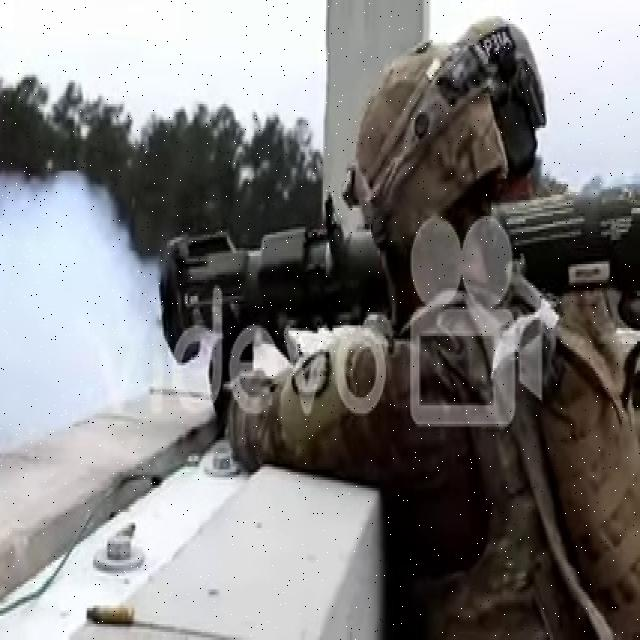bazooka: (155, 169, 640, 384)
